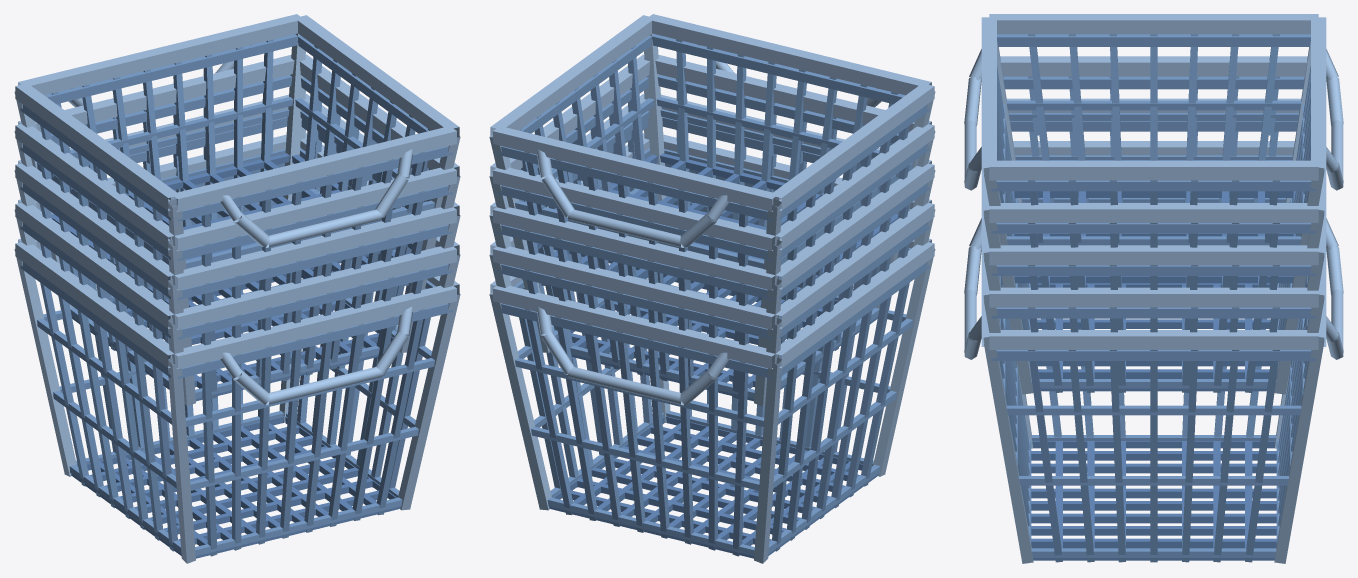
The model's file is Prop_BasketNest_A.fbx.
3 views of the same model, side by side, from view 1: azimuth 30°, elevation 25°; view 2: azimuth 150°, elevation 25°; view 3: azimuth 270°, elevation 25° (orthographic). The views are drawn at different scales.
Parts seen in each view (by area): view 1: Prop_BasketNest_A; view 2: Prop_BasketNest_A; view 3: Prop_BasketNest_A.
Part boxes in pixels (x1=…): Prop_BasketNest_A: x1=14, y1=14, x2=460, y2=563; Prop_BasketNest_A: x1=489, y1=14, x2=935, y2=563; Prop_BasketNest_A: x1=964, y1=14, x2=1343, y2=563.
Size of the model in its own units: 1.55 by 1.96 by 1.62.
